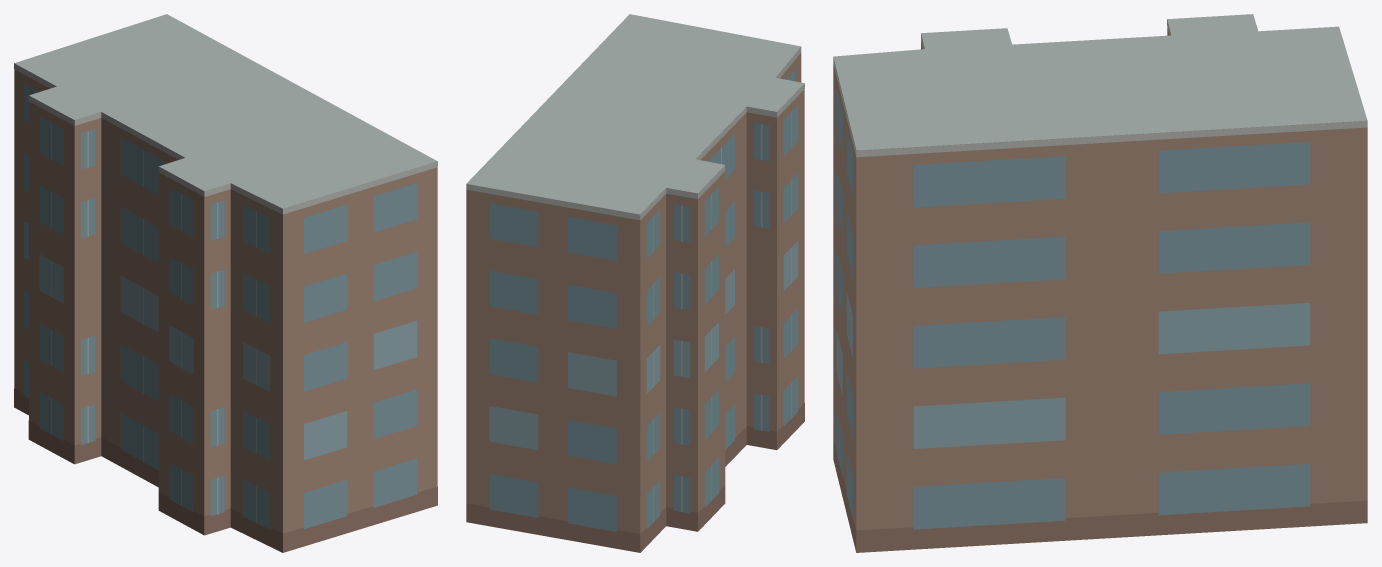
Rendered from survey-upis-32908909.glb.
3 views of the same model, side by side, from view 1: azimuth 30°, elevation 25°; view 2: azimuth 150°, elevation 25°; view 3: azimuth 270°, elevation 25° (orthographic). The views are drawn at different scales.
Parts seen in each view (by area): view 1: survey-upis-32908909.tmp; view 2: survey-upis-32908909.tmp; view 3: survey-upis-32908909.tmp.
Part boxes in pixels (x1=…): survey-upis-32908909.tmp: x1=14, y1=14, x2=437, y2=552; survey-upis-32908909.tmp: x1=466, y1=14, x2=804, y2=552; survey-upis-32908909.tmp: x1=833, y1=14, x2=1367, y2=552.
Size of the model in its own units: 10.48 by 14.4 by 17.34.
